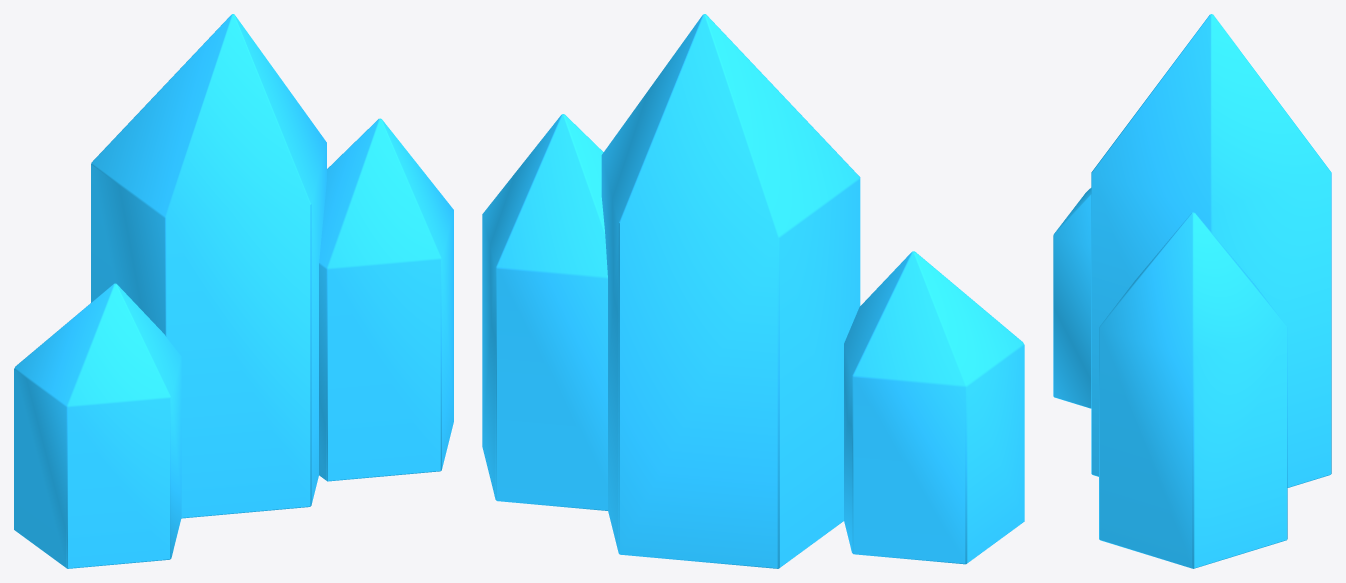
File: crystal_cluster_medium_01.glb
3 views of the same model, side by side, from view 1: azimuth 30°, elevation 25°; view 2: azimuth 150°, elevation 25°; view 3: azimuth 270°, elevation 25° (orthographic). The views are drawn at different scales.
Parts seen in each view (by area): view 1: crystal_cluster_medium_01; view 2: crystal_cluster_medium_01; view 3: crystal_cluster_medium_01.
Boxes of the visible parts, x1=… form: crystal_cluster_medium_01: x1=14, y1=14, x2=453, y2=568; crystal_cluster_medium_01: x1=482, y1=14, x2=1024, y2=568; crystal_cluster_medium_01: x1=1053, y1=14, x2=1331, y2=568.
Size of the model in its own units: 0.8401 by 0.8253 by 0.4611.
